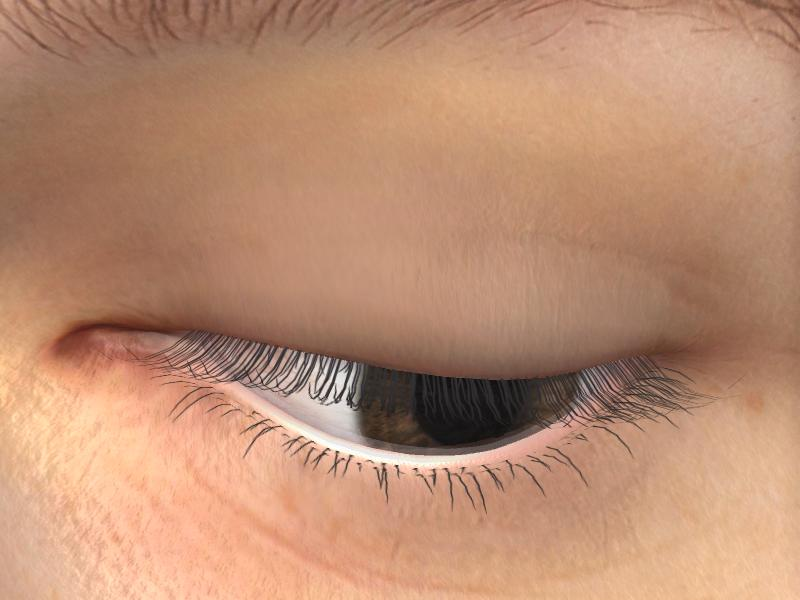eye: (358, 365, 577, 453)
